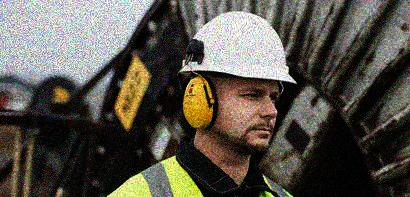helmet: (175, 10, 298, 152)
